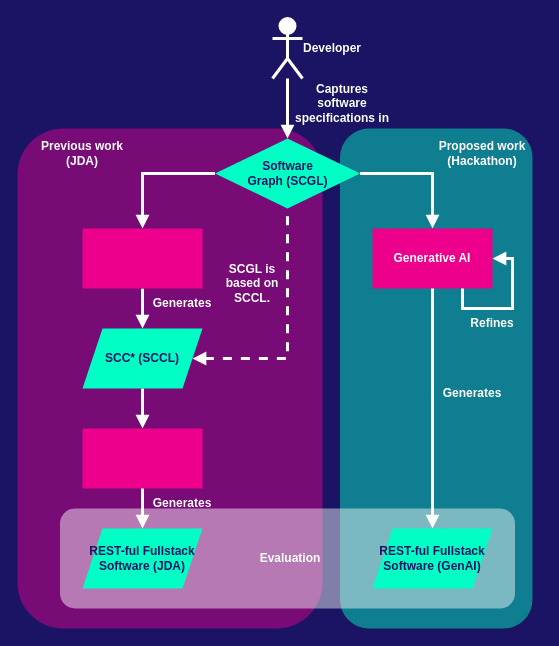
This 559x646 diagram has some shape labels left out. The centre of each missing label's shape, as x and y in pixels:
"RFSGen" belongs at pixel 142 458.
"SPKGen" belongs at pixel 142 258.
